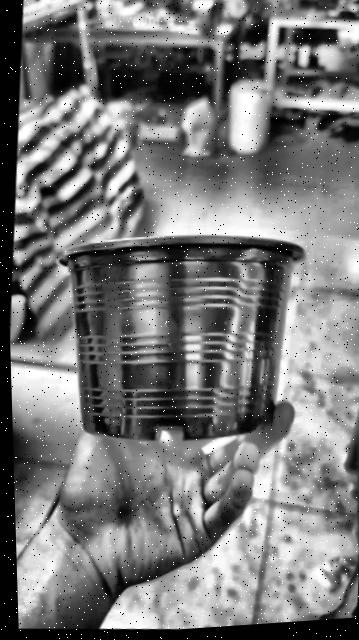pot: (58, 235, 302, 439)
